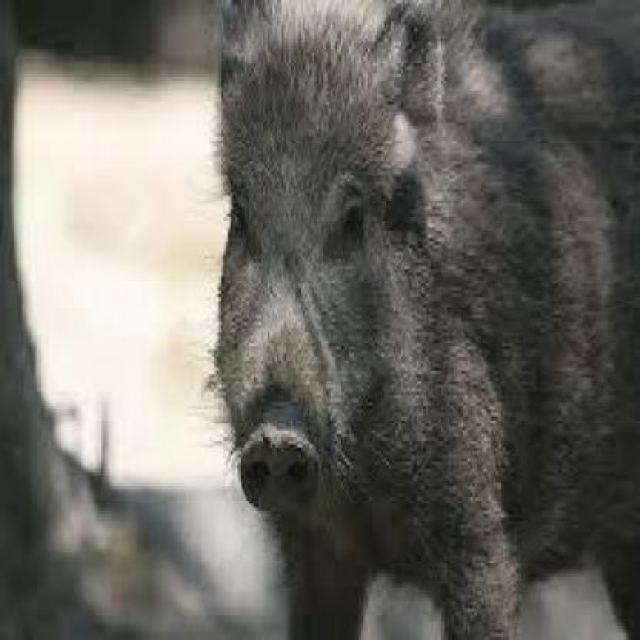Wild Boar: (184, 0, 640, 640)
